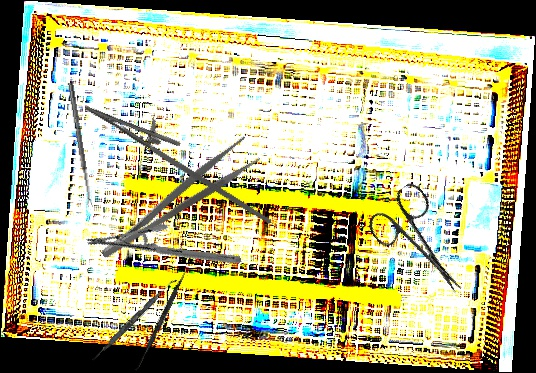Dressing Forceps: (89, 134, 263, 263)
Iris Scissors: (361, 179, 486, 311)
Needle Holder: (73, 89, 291, 226), (86, 188, 242, 313)
Spatula Surgical: (91, 275, 177, 364), (134, 267, 189, 373)
Surgical Spoon: (67, 82, 93, 208)
